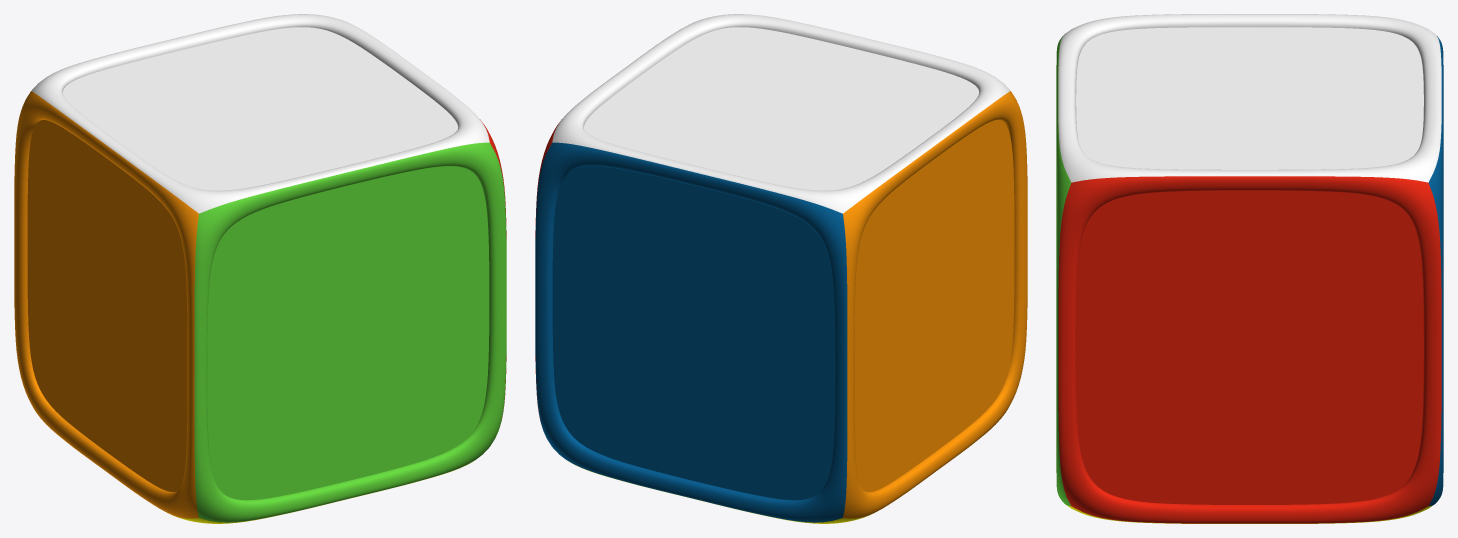
The model's file is Ordiks_Cube_Restart_221.glb.
3 views of the same model, side by side, from view 1: azimuth 30°, elevation 25°; view 2: azimuth 150°, elevation 25°; view 3: azimuth 270°, elevation 25° (orthographic). The views are drawn at different scales.
Parts seen in each view (by area): view 1: -1,1,1, -1,0,1, -1,-1,1, 0,1,1, 1,1,1, -1,1,0, -1,1,-1, 1,0,1, 0,-1,1, 0,0,1, 1,-1,1, -1,0,-1 (+7 smaller); view 2: -1,1,-1, -1,0,-1, -1,-1,-1, 0,1,-1, 1,1,-1, -1,1,0, -1,1,1, 1,0,-1, 0,-1,-1, 0,0,-1, 1,-1,-1, -1,0,1 (+7 smaller); view 3: 1,1,1, 1,1,-1, 1,1,0, 1,-1,0, 1,0,1, 1,0,-1, 1,0,0, 1,-1,1, 1,-1,-1, -1,1,0, 0,1,1, 0,1,-1 (+3 smaller).
Part boxes in pixels (box(x1,y1,x2,y2)): -1,1,1: box(133, 146, 298, 317); -1,0,1: box(139, 273, 295, 427); -1,-1,1: box(133, 383, 298, 523); 0,1,1: box(238, 120, 403, 290); 1,1,1: box(344, 89, 506, 264); -1,1,0: box(72, 101, 237, 272); -1,1,-1: box(14, 52, 176, 228); 1,0,1: box(400, 242, 506, 374); 0,-1,1: box(295, 375, 403, 510); 0,0,1: box(295, 265, 400, 400); 1,-1,1: box(400, 352, 506, 485); -1,0,-1: box(14, 187, 78, 338); -1,1,-1: box(743, 146, 908, 317); -1,0,-1: box(746, 273, 902, 427); -1,-1,-1: box(743, 383, 908, 523); 0,1,-1: box(638, 120, 803, 290); 1,1,-1: box(535, 89, 697, 264); -1,1,0: box(804, 101, 969, 272); -1,1,1: box(865, 52, 1027, 228); 1,0,-1: box(535, 242, 641, 374); 0,-1,-1: box(638, 375, 746, 510); 0,0,-1: box(641, 265, 746, 400); 1,-1,-1: box(535, 352, 641, 485); -1,0,1: box(963, 187, 1027, 338); 1,1,1: box(1056, 121, 1185, 292); 1,1,-1: box(1314, 121, 1443, 292); 1,1,0: box(1185, 128, 1314, 288); 1,-1,0: box(1185, 406, 1314, 523); 1,0,1: box(1056, 289, 1185, 409); 1,0,-1: box(1314, 289, 1443, 409); 1,0,0: box(1185, 289, 1314, 405); 1,-1,1: box(1056, 406, 1185, 523); 1,-1,-1: box(1314, 406, 1443, 523); -1,1,0: box(1185, 14, 1314, 73); 0,1,1: box(1056, 66, 1185, 127); 0,1,-1: box(1314, 66, 1443, 127).
Bounding box in the file's own units: 2 × 2 × 2.
Materials: 1 (1 with a texture image).
